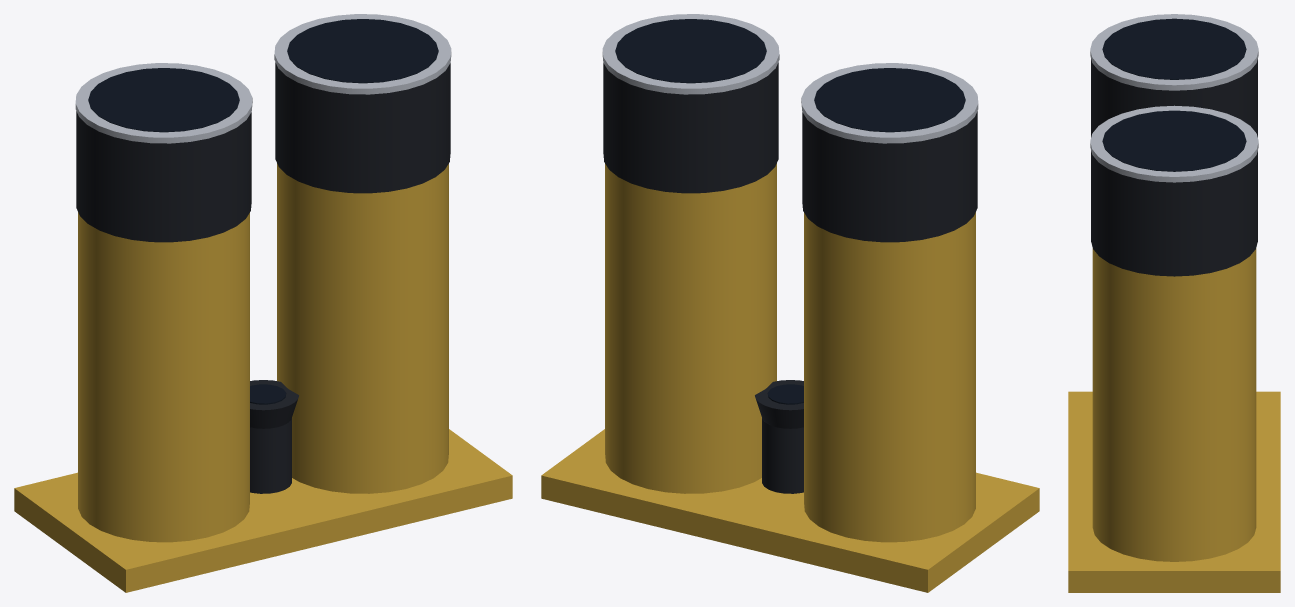
Rendered from cam.glb.
The picture shows the model from 3 angles, left to right: view 1: azimuth 30°, elevation 25°; view 2: azimuth 150°, elevation 25°; view 3: azimuth 270°, elevation 25°; orthographic projection. The views are drawn at different scales.
Parts seen in each view (by area): view 1: cam_nac_0_body, cam_nac_1_body, cam_base_plate, cam_nac_0_baffle, cam_nac_1_baffle, cam_nac_0_lens, cam_nac_1_lens, cam_nac_0_rim, cam_nac_1_rim, cam_wac_body, cam_wac_baffle, cam_wac_lens; view 2: cam_nac_0_body, cam_nac_1_body, cam_base_plate, cam_nac_0_baffle, cam_nac_1_baffle, cam_nac_0_lens, cam_nac_1_lens, cam_nac_0_rim, cam_nac_1_rim, cam_wac_body, cam_wac_baffle, cam_wac_lens; view 3: cam_nac_1_body, cam_base_plate, cam_nac_1_baffle, cam_nac_0_lens, cam_nac_1_lens, cam_nac_0_baffle, cam_nac_0_rim, cam_nac_1_rim.
Part boxes in pixels (left/top/right/bottom): cam_nac_0_body: left=78, top=212, right=249, bottom=542; cam_nac_1_body: left=277, top=163, right=448, bottom=493; cam_base_plate: left=14, top=429, right=512, bottom=592; cam_nac_0_baffle: left=76, top=111, right=251, bottom=242; cam_nac_1_baffle: left=275, top=62, right=450, bottom=193; cam_nac_0_lens: left=88, top=68, right=239, bottom=132; cam_nac_1_lens: left=287, top=19, right=438, bottom=83; cam_nac_0_rim: left=75, top=63, right=252, bottom=143; cam_nac_1_rim: left=274, top=14, right=451, bottom=94; cam_wac_body: left=250, top=418, right=291, bottom=493; cam_wac_baffle: left=250, top=380, right=298, bottom=428; cam_wac_lens: left=250, top=384, right=286, bottom=404; cam_nac_0_body: left=804, top=212, right=975, bottom=542; cam_nac_1_body: left=605, top=163, right=776, bottom=493; cam_base_plate: left=541, top=429, right=1039, bottom=592; cam_nac_0_baffle: left=802, top=111, right=977, bottom=242; cam_nac_1_baffle: left=603, top=62, right=778, bottom=193; cam_nac_0_lens: left=814, top=68, right=965, bottom=132; cam_nac_1_lens: left=615, top=19, right=766, bottom=83; cam_nac_0_rim: left=801, top=63, right=978, bottom=143; cam_nac_1_rim: left=602, top=14, right=779, bottom=94; cam_wac_body: left=762, top=418, right=803, bottom=493; cam_wac_baffle: left=755, top=380, right=803, bottom=428; cam_wac_lens: left=767, top=384, right=803, bottom=404; cam_nac_1_body: left=1092, top=248, right=1256, bottom=561; cam_base_plate: left=1068, top=391, right=1280, bottom=592; cam_nac_1_baffle: left=1091, top=151, right=1257, bottom=276; cam_nac_0_lens: left=1102, top=18, right=1246, bottom=79; cam_nac_1_lens: left=1102, top=110, right=1246, bottom=171; cam_nac_0_baffle: left=1091, top=59, right=1257, bottom=137; cam_nac_0_rim: left=1090, top=14, right=1258, bottom=90; cam_nac_1_rim: left=1090, top=105, right=1258, bottom=182.
Size of the model in its own units: 0.7 by 0.7433 by 0.35.
